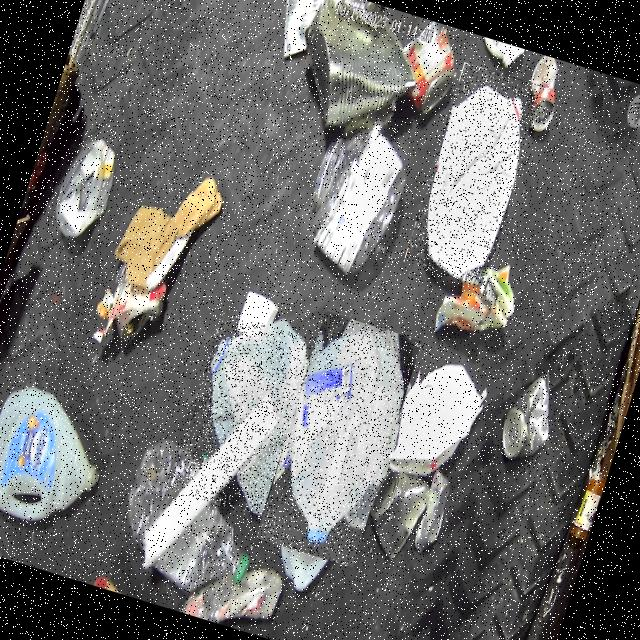milk-jug: (254, 308, 421, 566), (166, 310, 326, 522), (402, 61, 544, 286)
